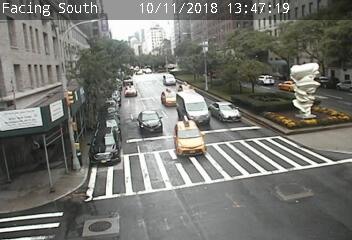car: (89, 128, 120, 166), (176, 91, 209, 125), (175, 120, 205, 157), (209, 101, 241, 122), (139, 111, 162, 133), (161, 91, 179, 106), (277, 80, 300, 91), (255, 75, 275, 85), (178, 84, 193, 97), (123, 85, 137, 97), (163, 74, 176, 86)
